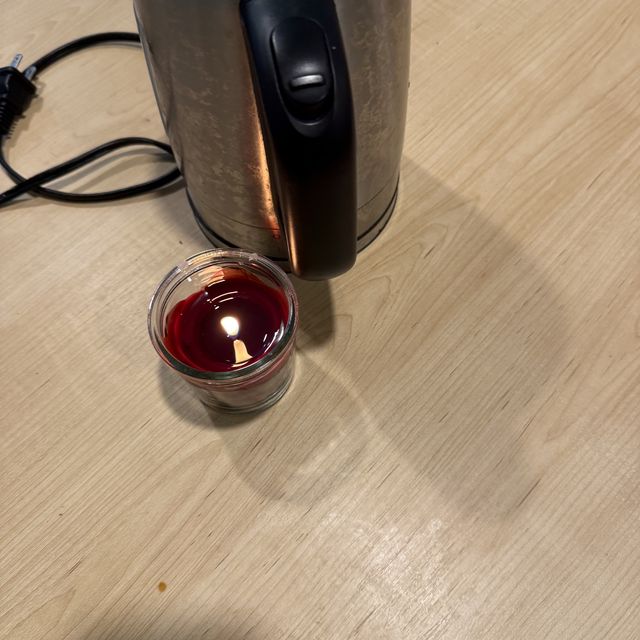Candle: (146, 249, 305, 419)
Kettle: (130, 0, 417, 294)
